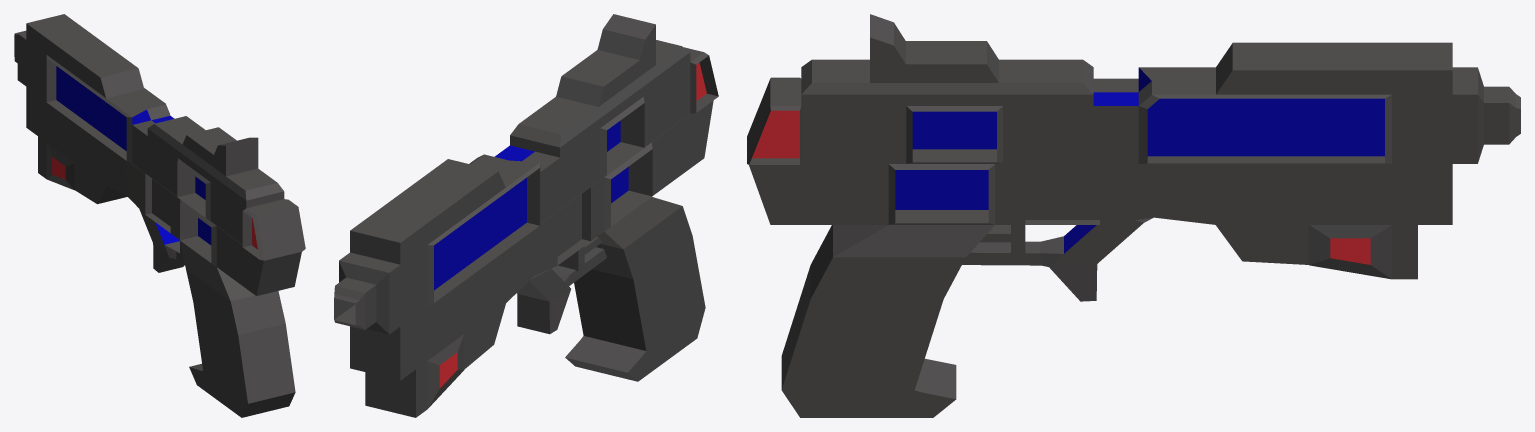
File: SpacegunPistol.fbx
3 views of the same model, side by side, from view 1: azimuth 30°, elevation 25°; view 2: azimuth 150°, elevation 25°; view 3: azimuth 270°, elevation 25° (orthographic). The views are drawn at different scales.
Parts seen in each view (by area): view 1: Cube; view 2: Cube; view 3: Cube.
Part boxes in pixels (bbox=[...]): Cube: bbox=[14, 14, 305, 417]; Cube: bbox=[334, 14, 718, 417]; Cube: bbox=[747, 14, 1520, 417].
Bounding box in the file's own units: 71.7 × 365 × 682.
